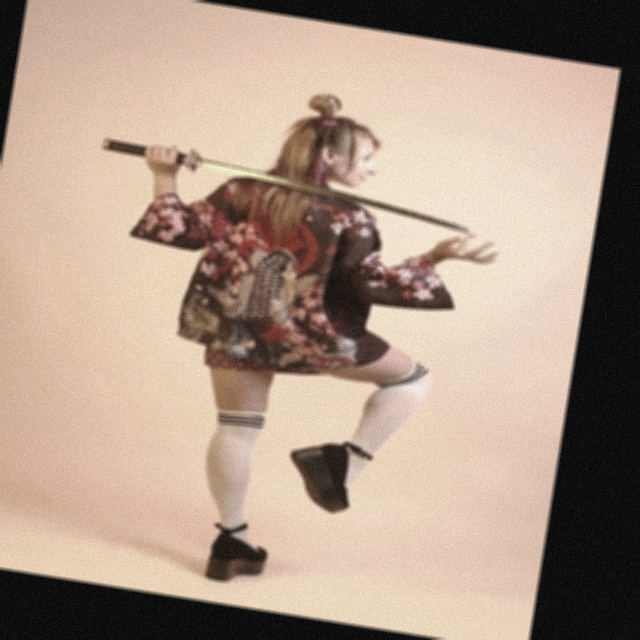Sharp-Object: (84, 132, 486, 245)
